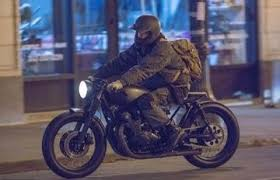motorcycle: (42, 75, 243, 180)
